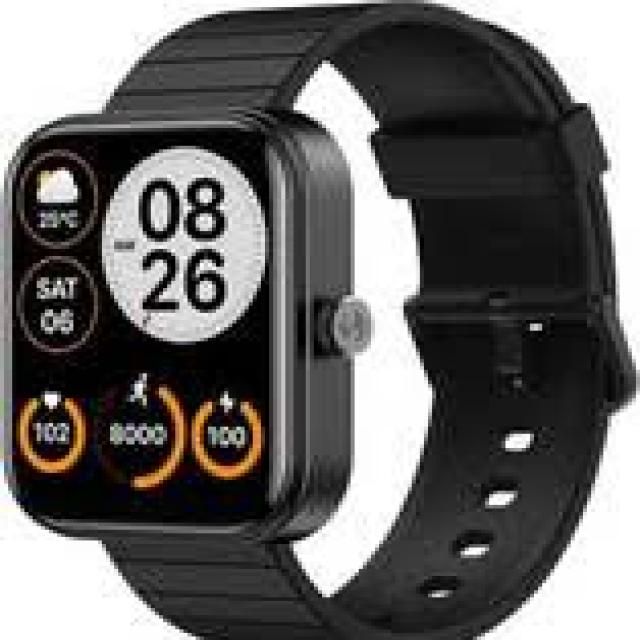objects: (10, 4, 632, 636)
